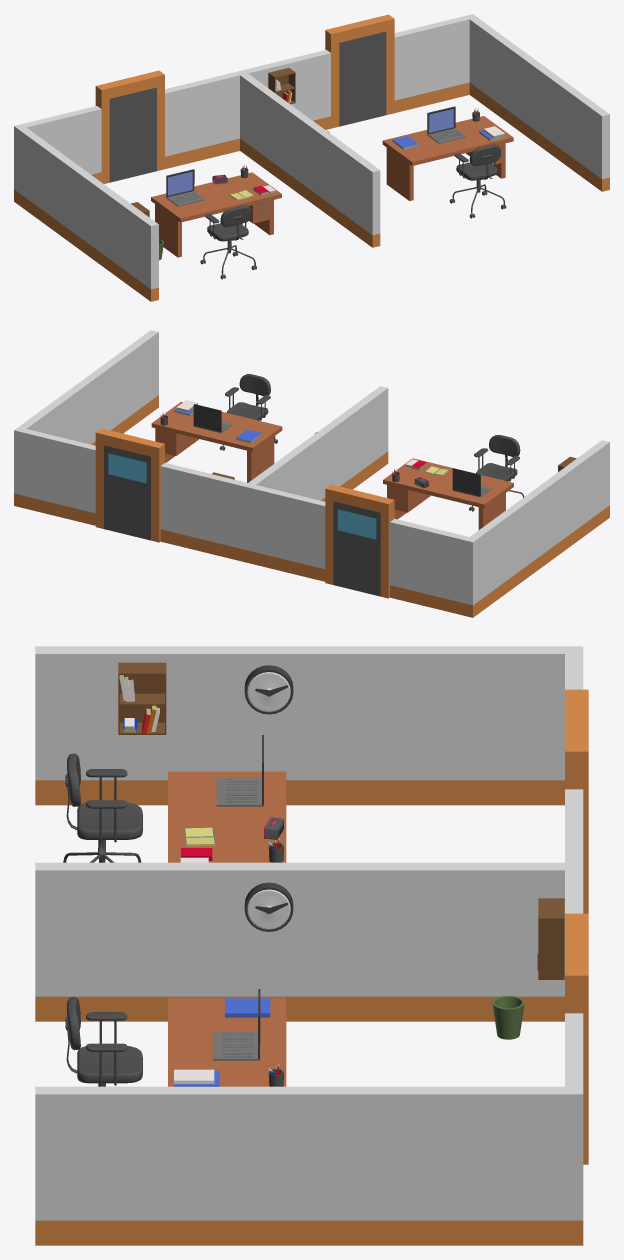
The model's file is oda.fbx.
3 views of the same model, one above another, from view 1: azimuth 30°, elevation 25°; view 2: azimuth 150°, elevation 25°; view 3: azimuth 270°, elevation 25° (orthographic). The views are drawn at different scales.
Visible parts, largest first — view 1: duvar1.001, duvar1.002, duvar1, duvar2.003, duvar2.001, masa, kapi, kapi.001, masa.001, duvar2, duvar2.002, kapiKiris.001 (+6 smaller); view 2: duvar1, duvar1.001, duvar1.002, duvar2, duvar2.002, duvar2.001, duvar2.003, kapi, kapi.001, masa.001, masa, kapiKiris (+5 smaller); view 3: duvar1.002, duvar1.001, duvar1, masa, masa.001, duvar2.003, sandalye, sandalye.001, kitaplık, kapiKiris.001, kapiKiris, kitaplık.001 (+9 smaller).
Part boxes in pixels (left/top/right/bottom): duvar1.001: left=240, top=73, right=380, bottom=247; duvar1.002: left=469, top=17, right=609, bottom=191; duvar1: left=18, top=127, right=158, bottom=301; duvar2.003: left=394, top=14, right=477, bottom=112; duvar2.001: left=165, top=70, right=247, bottom=168; masa: left=151, top=172, right=281, bottom=257; kapi: left=109, top=87, right=156, bottom=182; kapi.001: left=339, top=31, right=386, bottom=126; masa.001: left=382, top=116, right=513, bottom=200; duvar2: left=14, top=106, right=101, bottom=204; duvar2.002: left=244, top=50, right=330, bottom=129; kapiKiris.001: left=325, top=14, right=394, bottom=128; duvar1: left=470, top=440, right=609, bottom=613; duvar1.001: left=248, top=386, right=388, bottom=501; duvar1.002: left=19, top=330, right=158, bottom=445; duvar2: left=390, top=518, right=477, bottom=617; duvar2.002: left=160, top=463, right=247, bottom=561; duvar2.001: left=243, top=483, right=325, bottom=581; duvar2.003: left=14, top=427, right=95, bottom=525; kapi: left=333, top=501, right=380, bottom=596; kapi.001: left=104, top=445, right=150, bottom=540; masa.001: left=151, top=402, right=282, bottom=482; masa: left=383, top=458, right=513, bottom=529; kapiKiris: left=325, top=484, right=394, bottom=598; duvar1.002: left=35, top=1086, right=564, bottom=1245; duvar1.001: left=35, top=862, right=564, bottom=1021; duvar1: left=35, top=646, right=564, bottom=805; masa: left=168, top=771, right=286, bottom=862; masa.001: left=168, top=997, right=286, bottom=1086; duvar2.003: left=565, top=1013, right=583, bottom=1245; sandalye: left=63, top=753, right=142, bottom=862; sandalye.001: left=65, top=997, right=142, bottom=1086; kitaplık: left=118, top=662, right=166, bottom=734; kapiKiris.001: left=565, top=913, right=588, bottom=1164; kapiKiris: left=565, top=689, right=588, bottom=913; kitaplık.001: left=537, top=898, right=564, bottom=979.
Size of the model in its own units: 1221 by 243 by 637.
